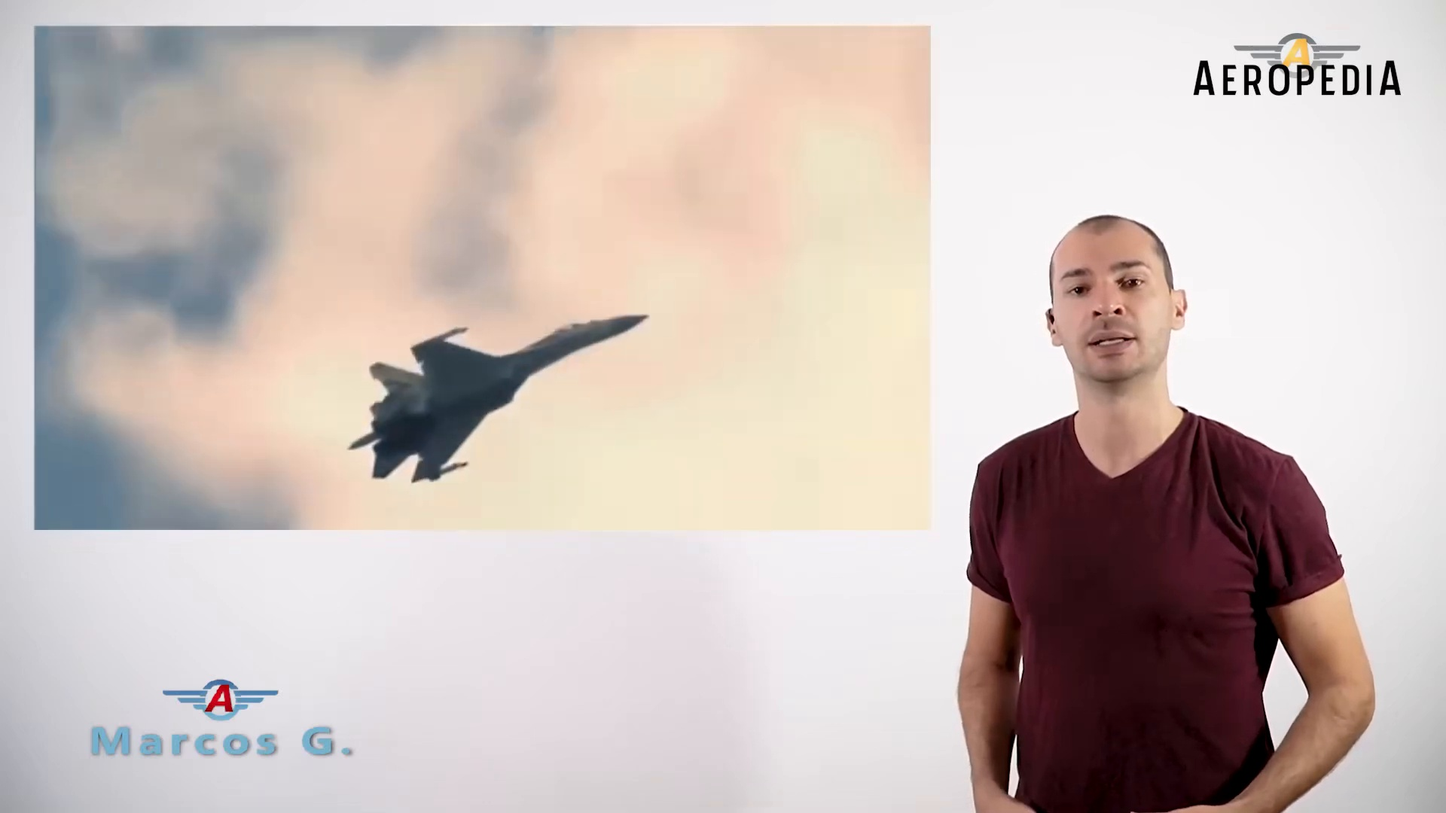Su35: (347, 313, 647, 480)
